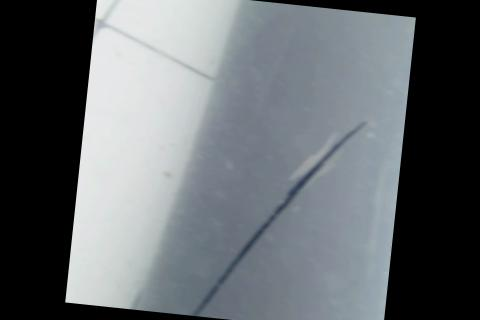keretakan: (188, 103, 363, 320)
